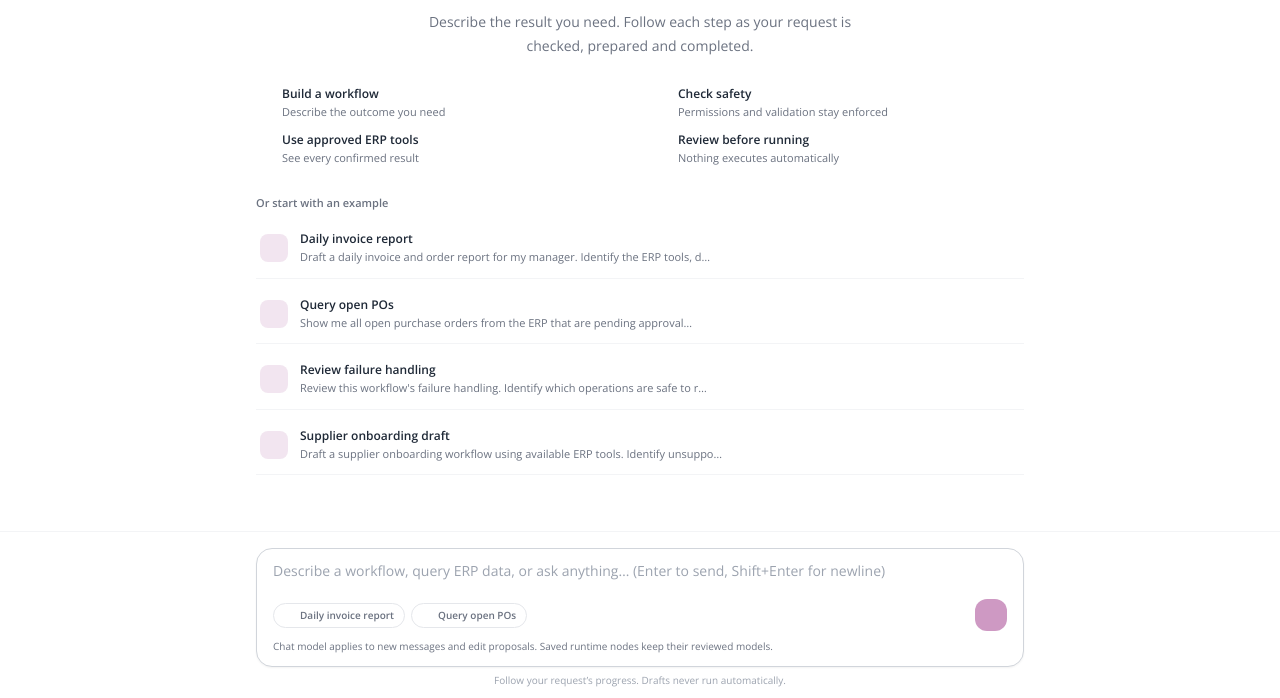
Test case: catalog errors are visible and retry does not discard the draft
(page scrolled)
Replace the text in the text box with "Keep this" at (640, 573), box [273,561,1007,585]
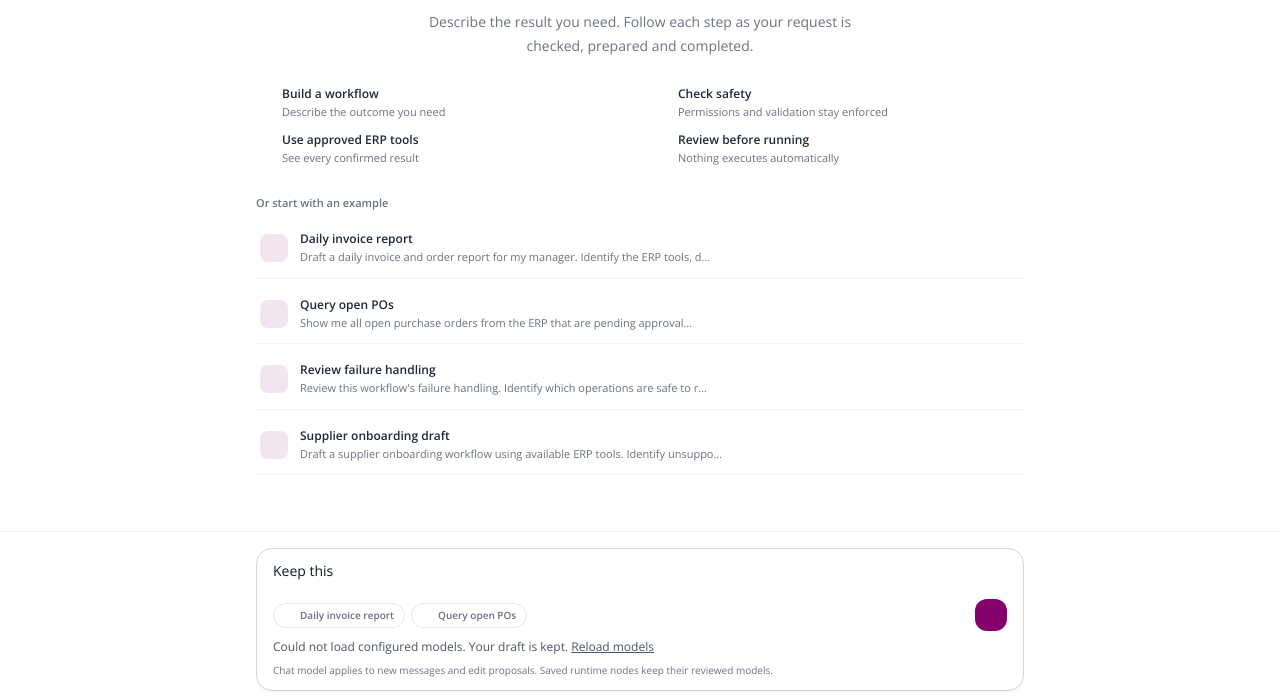
Check: the text "Could not load configured models. Your draft is kept. Reload models" is shown, box [273,638,654,655]
Click the button "Reload models".
click(613, 647)  # box [571,639,654,655]
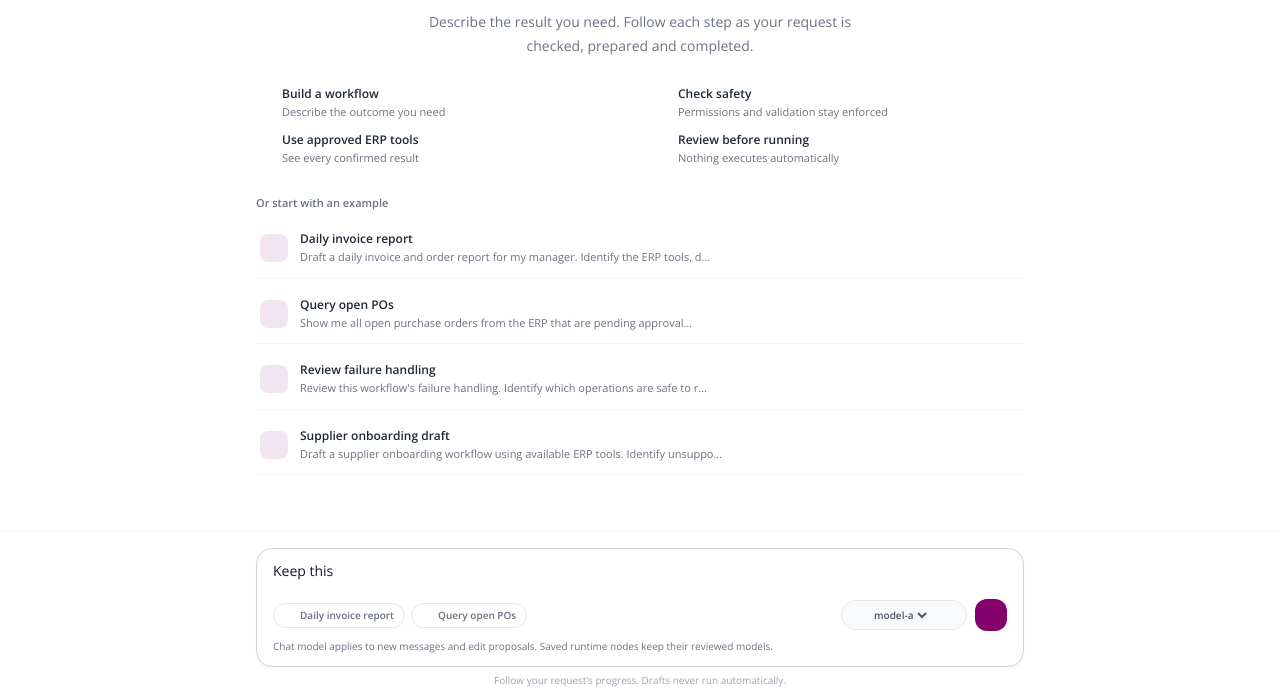
Check: the dropdown named "Requested model" is shown, box [870,607,930,623]
